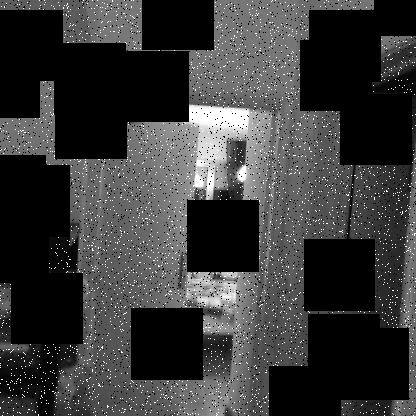Porte: (75, 78, 298, 415)
